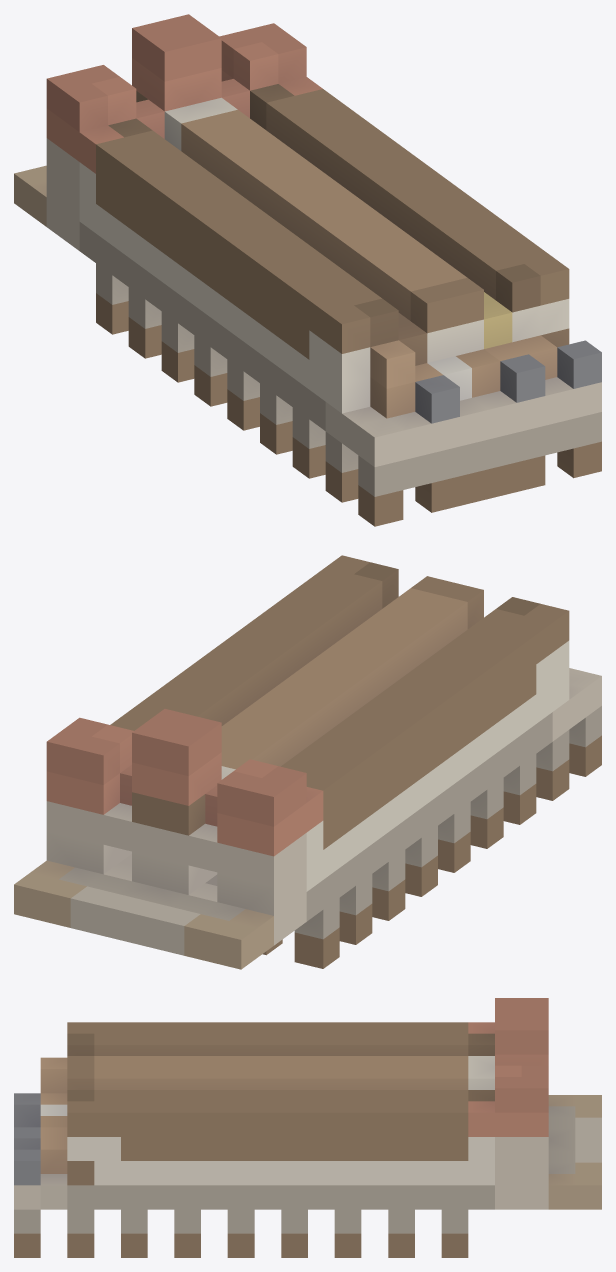
File: depot.lite.glb
3 views of the same model, one above another, from view 1: azimuth 30°, elevation 25°; view 2: azimuth 150°, elevation 25°; view 3: azimuth 270°, elevation 25° (orthographic). The views are drawn at different scales.
Parts seen in each view (by area): view 1: depot; view 2: depot; view 3: depot.
Boxes of the visible parts, x1,y1,x2,y2 form: depot: (14,14,601,526); depot: (14,555,601,969); depot: (14,998,601,1257).
Size of the model in its own units: 4 by 4 by 11.
